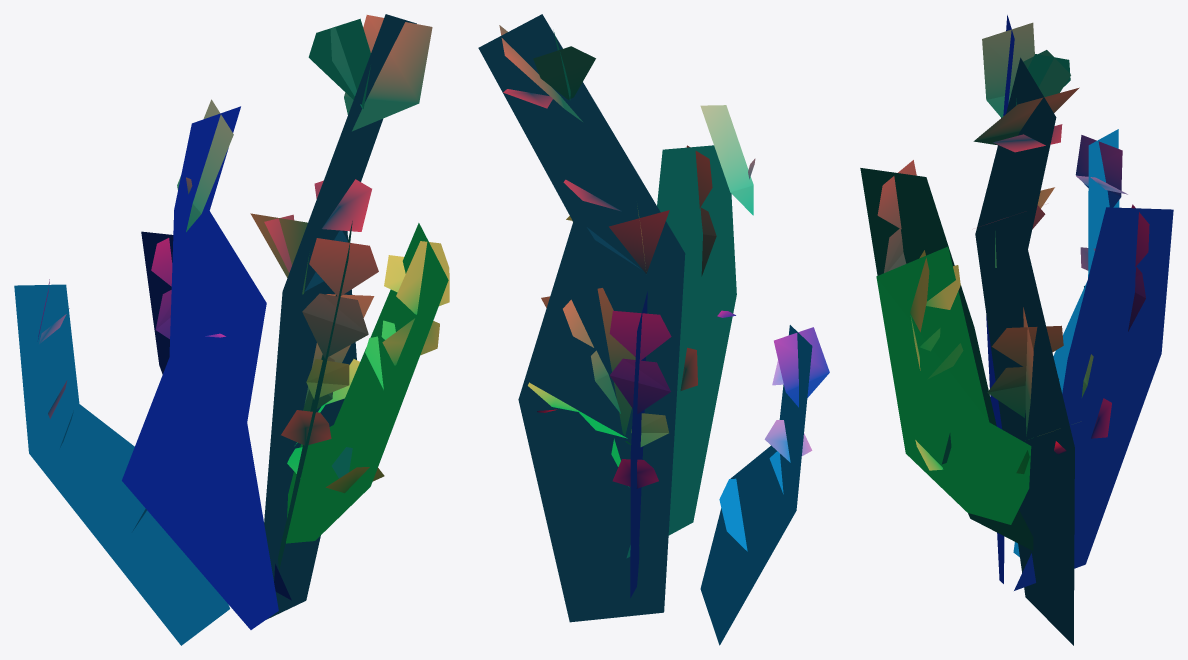
The model's file is Nordic_Coastal_Groundcover_vlqkdeaja_Mid_vlqkdeaja_VarK_LOD0.fbx.
The picture shows the model from 3 angles, left to right: view 1: azimuth 30°, elevation 25°; view 2: azimuth 150°, elevation 25°; view 3: azimuth 270°, elevation 25°; orthographic projection. The views are drawn at different scales.
Visible parts, largest first — view 1: _b3tn_VarK_LOD1; view 2: _b3tn_VarK_LOD1; view 3: _b3tn_VarK_LOD1.
Boxes of the visible parts, <box> form: _b3tn_VarK_LOD1: <box>14,14,449,645</box>; _b3tn_VarK_LOD1: <box>478,14,829,645</box>; _b3tn_VarK_LOD1: <box>860,15,1173,645</box>.
Bounding box in the file's own units: 30.19 × 45.9 × 21.14.
